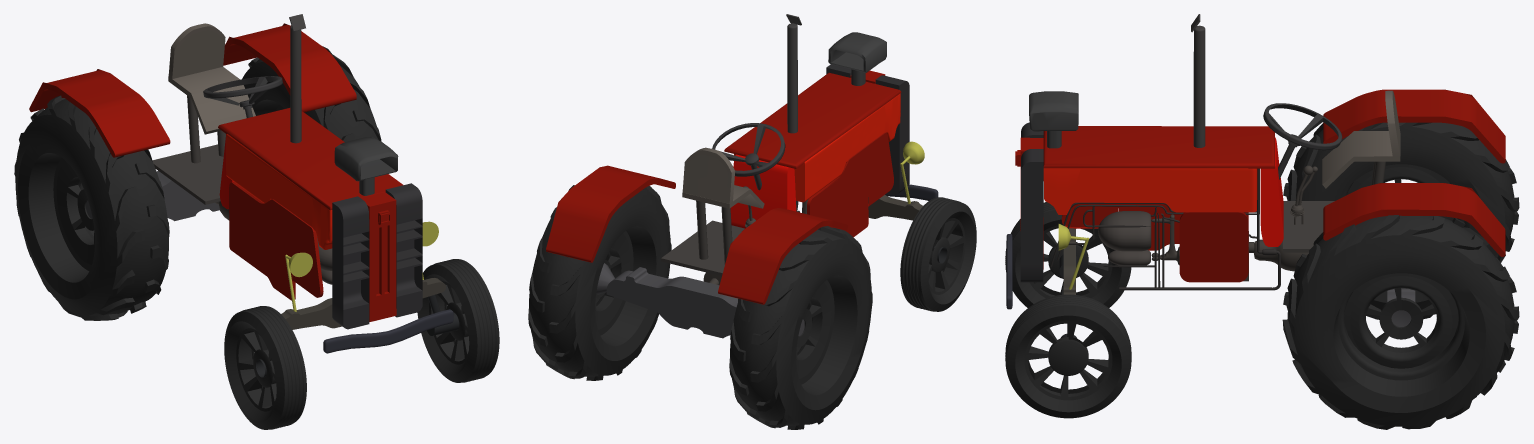
Rendered from traktorColored.glb.
3 views of the same model, side by side, from view 1: azimuth 30°, elevation 25°; view 2: azimuth 150°, elevation 25°; view 3: azimuth 270°, elevation 25° (orthographic). The views are drawn at different scales.
Parts seen in each view (by area): view 1: Tractor.Body_Vert.001, Tractor.Wheel.Bk.R_Circle.005, Tractor.Wheel.Ft.L_Cylinder.004, Tractor.Wheel.Ft.R_Cylinder.002, Tractor.Wheel.Bk.L_Circle.006; view 2: Tractor.Body_Vert.001, Tractor.Wheel.Bk.R_Circle.005, Tractor.Wheel.Bk.L_Circle.006, Tractor.Wheel.Ft.L_Cylinder.004; view 3: Tractor.Body_Vert.001, Tractor.Wheel.Bk.L_Circle.006, Tractor.Wheel.Bk.R_Circle.005, Tractor.Wheel.Ft.R_Cylinder.002, Tractor.Wheel.Ft.L_Cylinder.004.
Part boxes in pixels (left/top/right/bottom): Tractor.Body_Vert.001: left=29, top=14, right=459, bottom=377; Tractor.Wheel.Bk.R_Circle.005: left=14, top=95, right=169, bottom=320; Tractor.Wheel.Ft.L_Cylinder.004: left=224, top=306, right=306, bottom=429; Tractor.Wheel.Ft.R_Cylinder.002: left=417, top=259, right=499, bottom=382; Tractor.Wheel.Bk.L_Circle.006: left=242, top=46, right=381, bottom=141; Tractor.Body_Vert.001: left=546, top=14, right=947, bottom=338; Tractor.Wheel.Bk.R_Circle.005: left=729, top=226, right=872, bottom=429; Tractor.Wheel.Bk.L_Circle.006: left=528, top=185, right=671, bottom=380; Tractor.Wheel.Ft.L_Cylinder.004: left=900, top=197, right=976, bottom=311; Tractor.Body_Vert.001: left=1006, top=14, right=1505, bottom=338; Tractor.Wheel.Bk.L_Circle.006: left=1282, top=215, right=1519, bottom=429; Tractor.Wheel.Bk.R_Circle.005: left=1283, top=122, right=1519, bottom=319; Tractor.Wheel.Ft.R_Cylinder.002: left=1005, top=294, right=1131, bottom=418; Tractor.Wheel.Ft.L_Cylinder.004: left=1005, top=202, right=1131, bottom=307.
Size of the model in its own units: 0.6605 by 0.7638 by 1.01.
